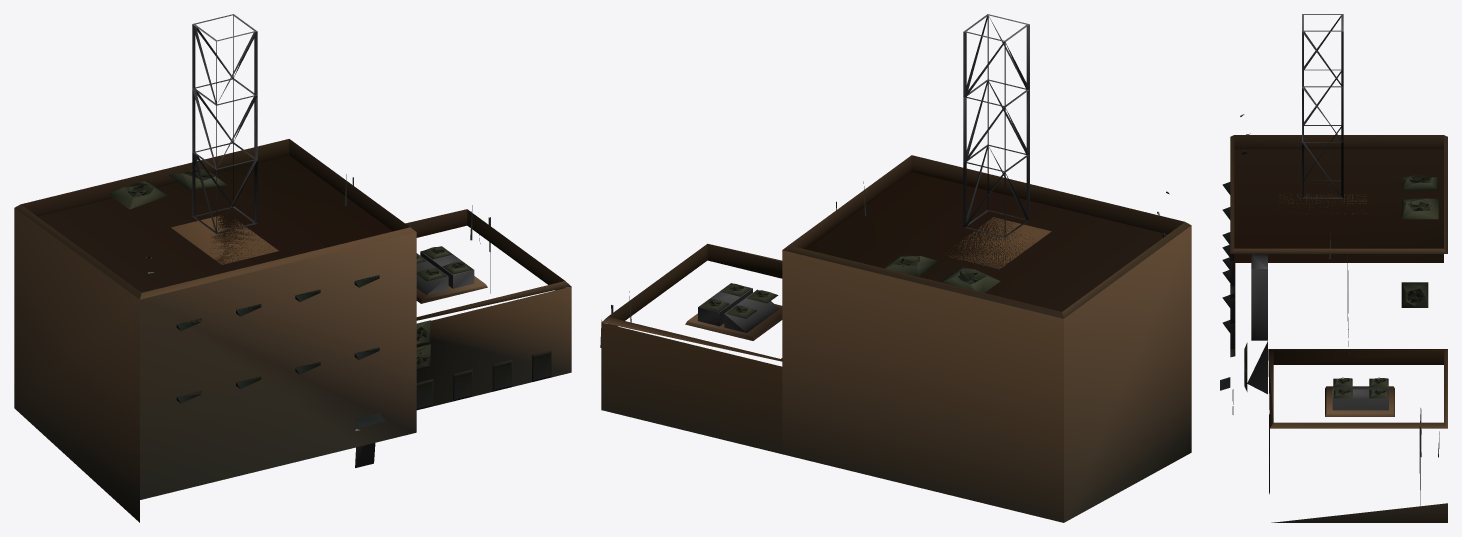
File: sf_apartment_1_lod.glb
3 views of the same model, side by side, from view 1: azimuth 30°, elevation 25°; view 2: azimuth 150°, elevation 25°; view 3: azimuth 270°, elevation 25° (orthographic). The views are drawn at different scales.
Visible parts, largest first — view 1: Plane.022_0; view 2: Plane.022_0; view 3: Plane.022_0.
Part boxes in pixels (x1=…): Plane.022_0: x1=14, y1=14, x2=571, y2=522; Plane.022_0: x1=600, y1=14, x2=1191, y2=522; Plane.022_0: x1=1220, y1=14, x2=1447, y2=522.
Size of the model in its own units: 11.67 by 10.22 by 5.77.
